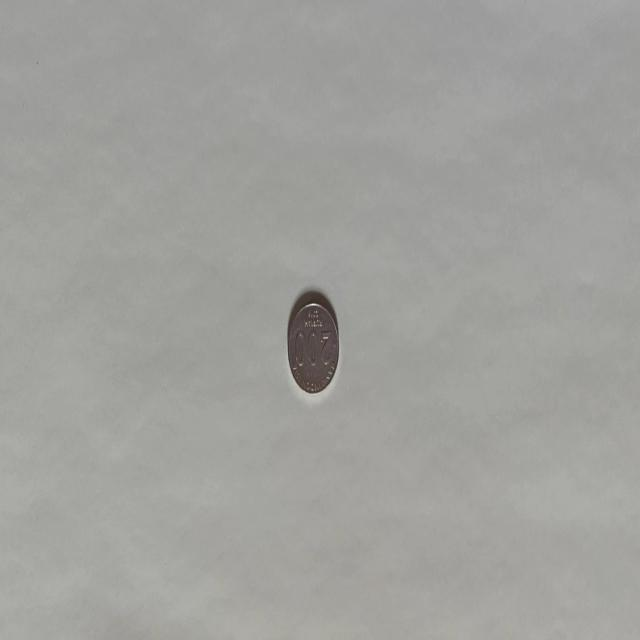dua ratus rupiah: (286, 298, 340, 394)
